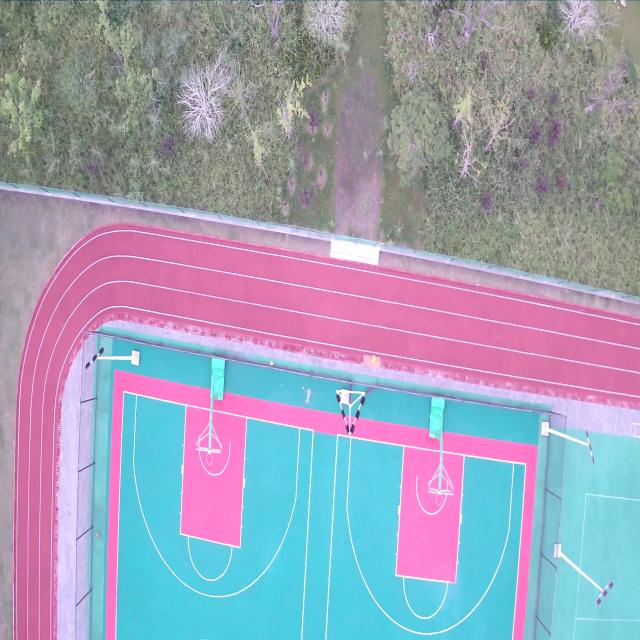UAV: (300, 385, 317, 410)
